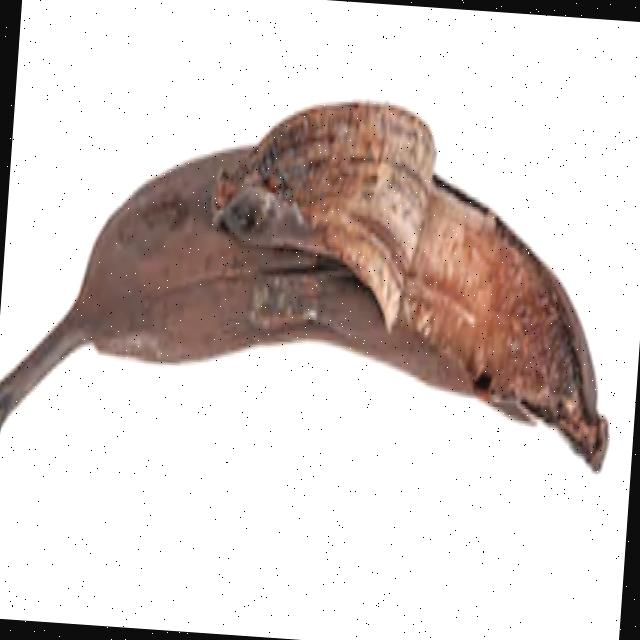Rotten: (0, 64, 640, 527)
